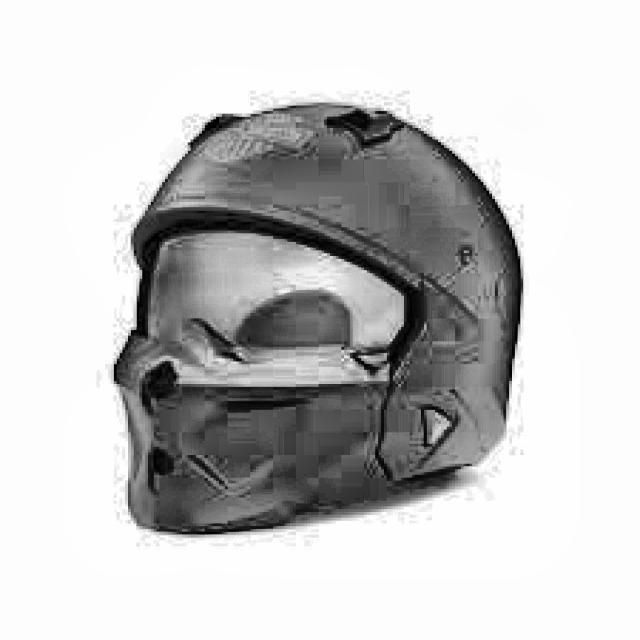Helmet: (95, 87, 550, 566)
